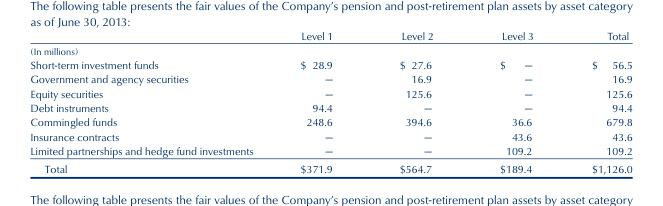table: (29, 28, 631, 175)
table column: (29, 28, 276, 175), (365, 28, 465, 175), (465, 28, 561, 175), (276, 28, 365, 175), (561, 28, 631, 175)
table column header: (29, 28, 631, 56)
table row: (29, 28, 631, 56), (29, 143, 631, 159), (29, 159, 631, 175), (29, 56, 631, 71), (29, 85, 631, 100), (29, 128, 631, 143), (29, 71, 631, 85), (29, 100, 631, 114), (29, 114, 631, 128)
